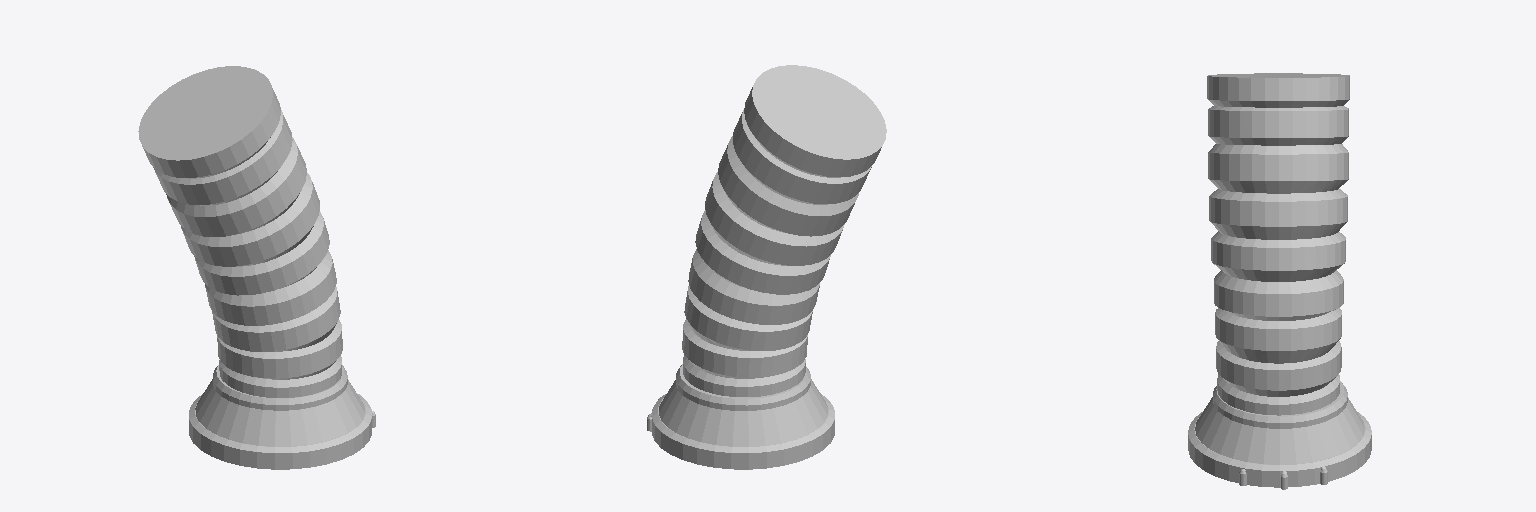
The model's file is pata_delantera_izq.obj.
3 views of the same model, side by side, from view 1: azimuth 30°, elevation 25°; view 2: azimuth 150°, elevation 25°; view 3: azimuth 270°, elevation 25° (orthographic).
Parts seen in each view (by area): view 1: C_rculo_006_C_rculo_007, C_rculo_012_C_rculo_013, C_rculo_011_C_rculo_012, C_rculo_013_C_rculo_014; view 2: C_rculo_006_C_rculo_007, C_rculo_012_C_rculo_013, C_rculo_011_C_rculo_012, C_rculo_013_C_rculo_014; view 3: C_rculo_006_C_rculo_007, C_rculo_012_C_rculo_013, C_rculo_011_C_rculo_012, C_rculo_013_C_rculo_014.
Part boxes in pixels (bbox=[...]): C_rculo_006_C_rculo_007: bbox=[138, 66, 342, 397]; C_rculo_012_C_rculo_013: bbox=[195, 379, 364, 446]; C_rculo_011_C_rculo_012: bbox=[189, 394, 371, 469]; C_rculo_013_C_rculo_014: bbox=[213, 365, 347, 410]; C_rculo_006_C_rculo_007: bbox=[682, 65, 886, 396]; C_rculo_012_C_rculo_013: bbox=[659, 379, 828, 446]; C_rculo_011_C_rculo_012: bbox=[652, 394, 834, 469]; C_rculo_013_C_rculo_014: bbox=[676, 364, 810, 410]; C_rculo_006_C_rculo_007: bbox=[1207, 73, 1349, 415]; C_rculo_012_C_rculo_013: bbox=[1195, 397, 1364, 464]; C_rculo_011_C_rculo_012: bbox=[1188, 412, 1371, 487]; C_rculo_013_C_rculo_014: bbox=[1213, 381, 1347, 428].
Size of the model in its own units: 1.39 by 2.24 by 1.03.